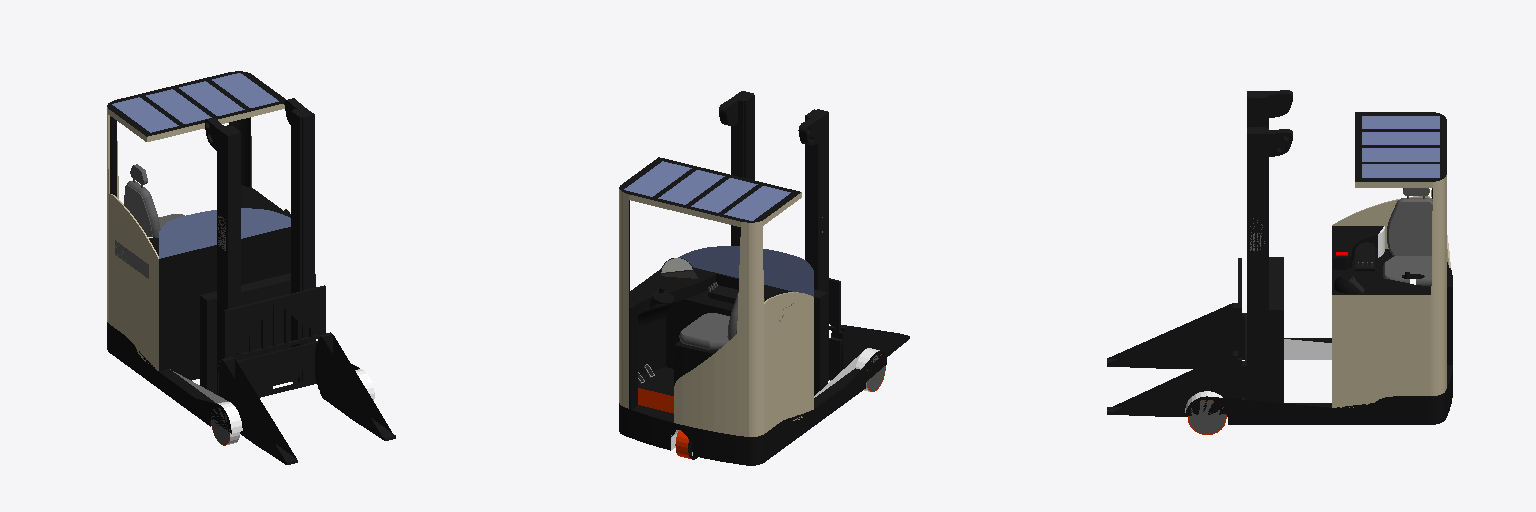
The model's file is ForkLift.obj.
3 views of the same model, side by side, from view 1: azimuth 30°, elevation 25°; view 2: azimuth 150°, elevation 25°; view 3: azimuth 270°, elevation 25° (orthographic).
Parts seen in each view (by area): view 1: Mesh16 ___65_1 Model, Mesh2 Composant_6_1 ___65_1 Model, Mesh9 Group2 Penkki_1_1 Valtra_tractor1 ___65_1 Model; view 2: Mesh16 ___65_1 Model, Mesh2 Composant_6_1 ___65_1 Model, Mesh5 Group1 Penkki_1_1 Valtra_tractor1 ___65_1 Model, Mesh21 ___65_1 Model; view 3: Mesh16 ___65_1 Model, Mesh2 Composant_6_1 ___65_1 Model, Mesh9 Group2 Penkki_1_1 Valtra_tractor1 ___65_1 Model, Mesh5 Group1 Penkki_1_1 Valtra_tractor1 ___65_1 Model.
Boxes of the visible parts, x1=… form: Mesh16 ___65_1 Model: x1=107, y1=71, x2=374, y2=445; Mesh2 Composant_6_1 ___65_1 Model: x1=200, y1=98, x2=395, y2=464; Mesh9 Group2 Penkki_1_1 Valtra_tractor1 ___65_1 Model: x1=124, y1=181, x2=160, y2=237; Mesh16 ___65_1 Model: x1=619, y1=157, x2=886, y2=465; Mesh2 Composant_6_1 ___65_1 Model: x1=719, y1=91, x2=909, y2=395; Mesh5 Group1 Penkki_1_1 Valtra_tractor1 ___65_1 Model: x1=679, y1=313, x2=729, y2=349; Mesh21 ___65_1 Model: x1=660, y1=258, x2=698, y2=278; Mesh16 ___65_1 Model: x1=1185, y1=112, x2=1452, y2=434; Mesh2 Composant_6_1 ___65_1 Model: x1=1107, y1=90, x2=1292, y2=416; Mesh9 Group2 Penkki_1_1 Valtra_tractor1 ___65_1 Model: x1=1387, y1=198, x2=1432, y2=255; Mesh5 Group1 Penkki_1_1 Valtra_tractor1 ___65_1 Model: x1=1383, y1=256, x2=1431, y2=285.
Size of the model in its own units: 1311 by 2520 by 2741.